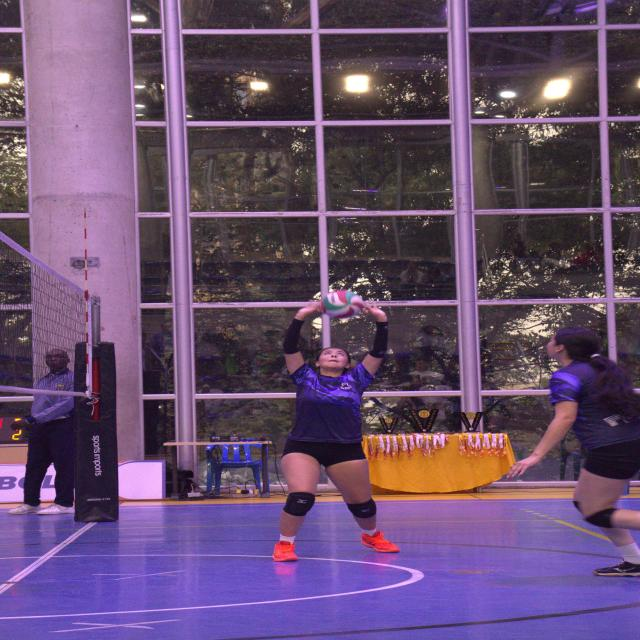volleyball: (321, 291, 365, 319)
